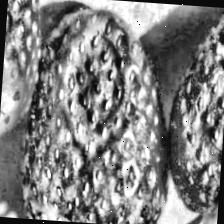Anthracnose Fruit Rot: (46, 27, 134, 154), (177, 40, 224, 187), (0, 25, 28, 147)
